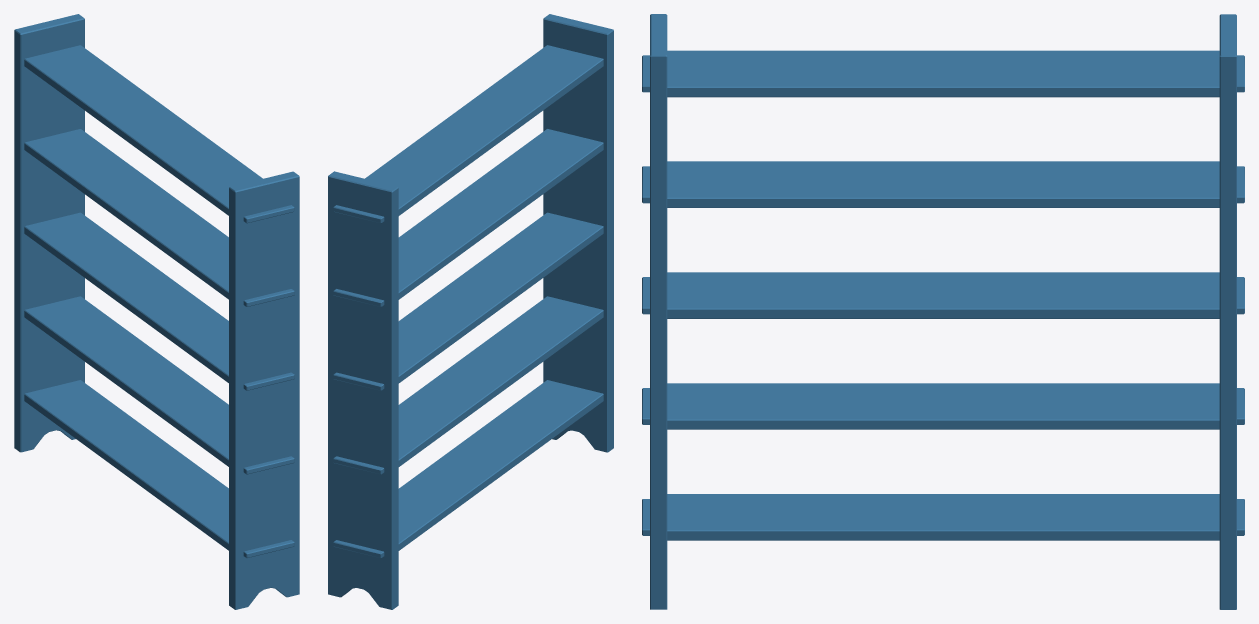
Rendered from Bookshelf.fbx.
3 views of the same model, side by side, from view 1: azimuth 30°, elevation 25°; view 2: azimuth 150°, elevation 25°; view 3: azimuth 270°, elevation 25° (orthographic). The views are drawn at different scales.
Parts seen in each view (by area): view 1: Bookshelf; view 2: Bookshelf; view 3: Bookshelf.
Part boxes in pixels (x1,y1,x2,y2): Bookshelf: (14,14,299,609); Bookshelf: (328,14,613,609); Bookshelf: (642,14,1244,609).
Size of the model in its own units: 34.18 by 210 by 207.
